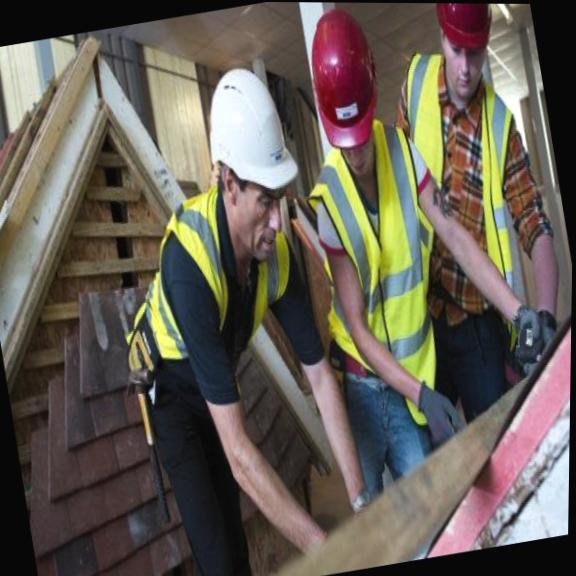safety_vest: (389, 27, 576, 407), (104, 157, 336, 439), (301, 122, 475, 412)
